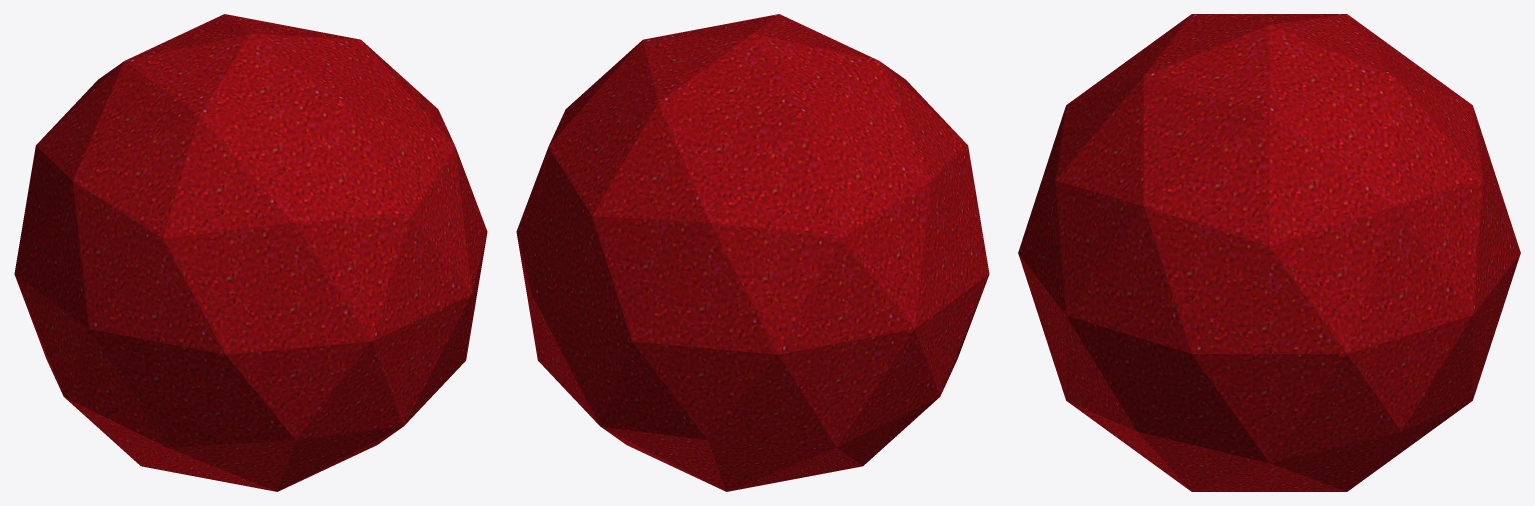
The model's file is itemBoxNise.obj.
3 views of the same model, side by side, from view 1: azimuth 30°, elevation 25°; view 2: azimuth 150°, elevation 25°; view 3: azimuth 270°, elevation 25° (orthographic). The views are drawn at different scales.
Parts seen in each view (by area): view 1: itemBoxNise-SKP--ef_rainbows; view 2: itemBoxNise-SKP--ef_rainbows; view 3: itemBoxNise-SKP--ef_rainbows.
Part boxes in pixels (x1,y1,x2,y2): itemBoxNise-SKP--ef_rainbows: (14, 14, 487, 491); itemBoxNise-SKP--ef_rainbows: (516, 14, 989, 491); itemBoxNise-SKP--ef_rainbows: (1018, 14, 1520, 491).
Bounding box in the file's own units: 222 × 233 × 233.
Materials: 2 (2 with a texture image).
